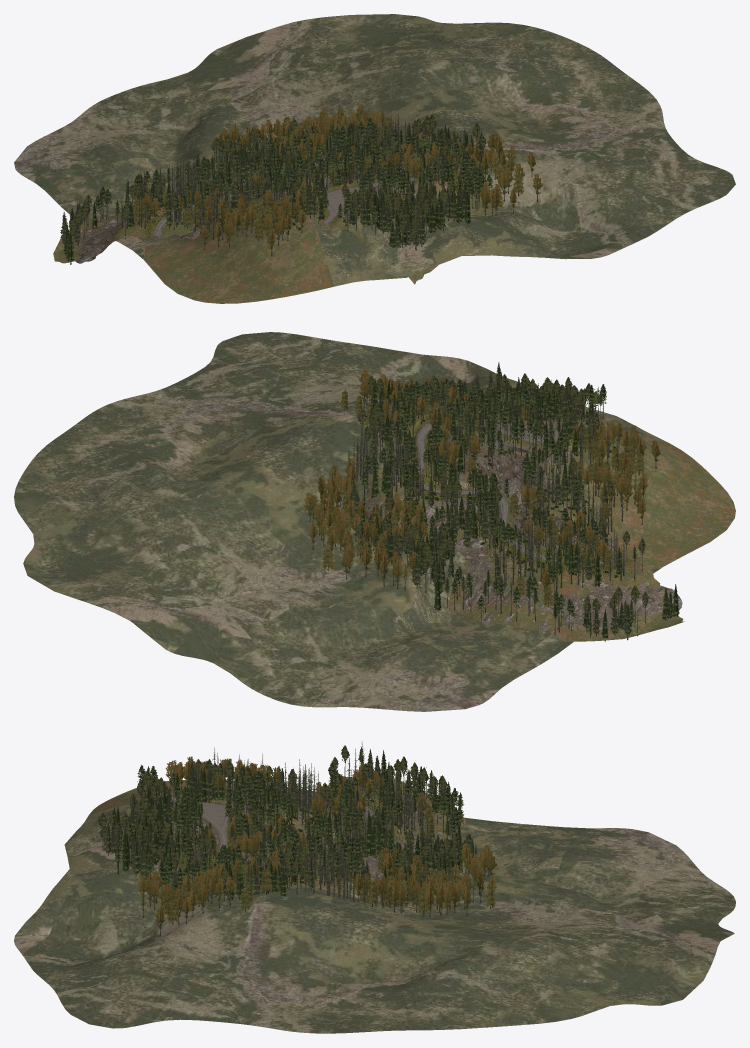
Rendered from forest.glb.
The picture shows the model from 3 angles, top to bottom: view 1: azimuth 30°, elevation 25°; view 2: azimuth 150°, elevation 25°; view 3: azimuth 270°, elevation 25°; orthographic projection. The views are drawn at different scales.
Visible parts, largest first — view 1: Background_Tree_Atlas_020_Terrain_Far_0, Background_Tree_Atlas_001_Background_Tree_Atlas_0 (×2), Background_Tree_Atlas_021_Aerial_Grass_0, Background_Tree_Atlas_006_Trunk_Oak_0, Background_Tree_Atlas_019_Sloped_Rock_0, Background_Tree_Atlas_025_Dirt_Road_0, Background_Tree_Atlas_024_Grass_Close_0, Background_Tree_Atlas_004_Trunk_Birch_0; view 2: Background_Tree_Atlas_020_Terrain_Far_0, Background_Tree_Atlas_001_Background_Tree_Atlas_0 (×2), Background_Tree_Atlas_021_Aerial_Grass_0, Background_Tree_Atlas_006_Trunk_Oak_0, Background_Tree_Atlas_019_Sloped_Rock_0, Background_Tree_Atlas_022_Tall_Cliff_0, Background_Tree_Atlas_024_Grass_Close_0, Background_Tree_Atlas_025_Dirt_Road_0, Background_Tree_Atlas_013_Rock_Decal_0, Background_Tree_Atlas_004_Trunk_Birch_0; view 3: Background_Tree_Atlas_020_Terrain_Far_0, Background_Tree_Atlas_001_Background_Tree_Atlas_0 (×2), Background_Tree_Atlas_006_Trunk_Oak_0, Background_Tree_Atlas_021_Aerial_Grass_0, Background_Tree_Atlas_019_Sloped_Rock_0, Background_Tree_Atlas_004_Trunk_Birch_0, Background_Tree_Atlas_025_Dirt_Road_0.
Boxes of the visible parts, x1,y1,x2,y2 form: Background_Tree_Atlas_020_Terrain_Far_0: [14, 14, 735, 286]; Background_Tree_Atlas_001_Background_Tree_Atlas_0 (×2): [60, 104, 542, 261]; Background_Tree_Atlas_021_Aerial_Grass_0: [53, 158, 504, 303]; Background_Tree_Atlas_006_Trunk_Oak_0: [70, 112, 518, 264]; Background_Tree_Atlas_019_Sloped_Rock_0: [75, 155, 418, 263]; Background_Tree_Atlas_025_Dirt_Road_0: [153, 167, 424, 236]; Background_Tree_Atlas_024_Grass_Close_0: [144, 164, 440, 236]; Background_Tree_Atlas_004_Trunk_Birch_0: [145, 124, 537, 256]; Background_Tree_Atlas_020_Terrain_Far_0: [14, 332, 667, 711]; Background_Tree_Atlas_001_Background_Tree_Atlas_0 (×2): [304, 362, 679, 638]; Background_Tree_Atlas_021_Aerial_Grass_0: [361, 408, 735, 641]; Background_Tree_Atlas_006_Trunk_Oak_0: [313, 380, 675, 641]; Background_Tree_Atlas_019_Sloped_Rock_0: [360, 419, 682, 634]; Background_Tree_Atlas_022_Tall_Cliff_0: [465, 450, 616, 551]; Background_Tree_Atlas_024_Grass_Close_0: [398, 418, 633, 567]; Background_Tree_Atlas_025_Dirt_Road_0: [415, 421, 629, 564]; Background_Tree_Atlas_013_Rock_Decal_0: [414, 421, 625, 565]; Background_Tree_Atlas_004_Trunk_Birch_0: [309, 396, 656, 598]; Background_Tree_Atlas_020_Terrain_Far_0: [14, 790, 735, 1033]; Background_Tree_Atlas_001_Background_Tree_Atlas_0 (×2): [97, 741, 497, 928]; Background_Tree_Atlas_006_Trunk_Oak_0: [102, 746, 491, 924]; Background_Tree_Atlas_021_Aerial_Grass_0: [89, 776, 469, 917]; Background_Tree_Atlas_019_Sloped_Rock_0: [172, 777, 457, 901]; Background_Tree_Atlas_004_Trunk_Birch_0: [142, 774, 491, 936]; Background_Tree_Atlas_025_Dirt_Road_0: [171, 790, 376, 872].
Bounding box in the file's own units: 14.87 × 3 × 14.78.
26 materials, 26 textured.
